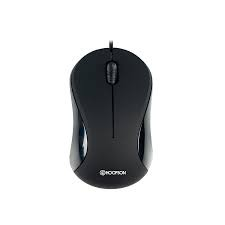mouse: (53, 35, 154, 187)
